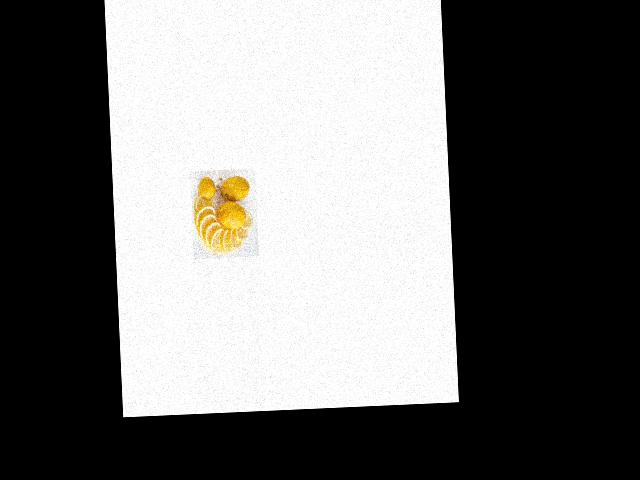lemon: (198, 176, 218, 198)
